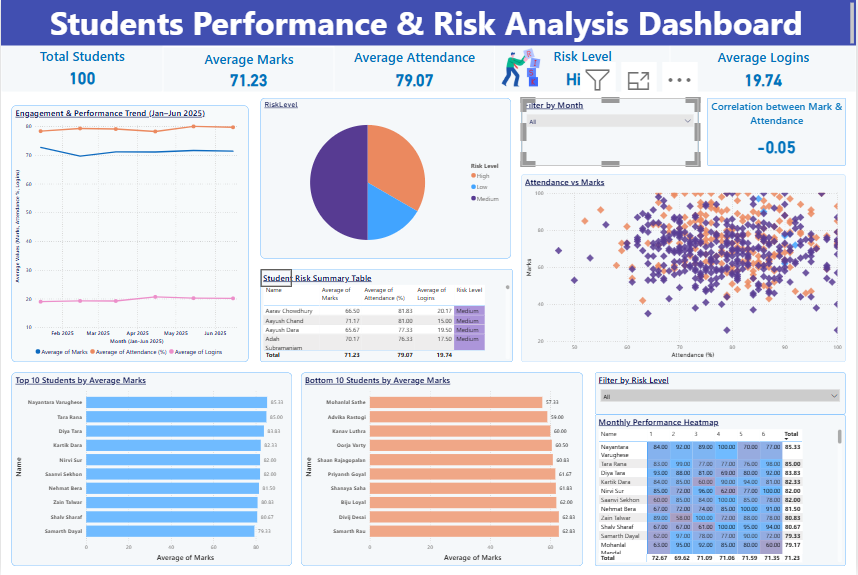

The dashboard page shown, as its layout file describes it:
{"tool":"powerbi","page":{"name":"Page 1","canvas":[1900,1280],"ordinal":0},"visuals":[{"type":"card","title":"Average Logins","fields":{"Values":["Avg(student_performance_dataset.Logins)"]},"box":[1486.7,103.3,413.3,103.3],"z":0},{"type":"lineChart","title":"Engagement & Performance Trend (Jan–Jun 2025)","fields":{"Category":["student_performance_dataset.Date"],"Y":["Avg(student_performance_dataset.Marks)","Avg(student_performance_dataset.Attendance (%))","Avg(student_performance_dataset.Logins)"]},"box":[23.3,236.7,526.7,570],"z":1000},{"type":"card","title":"Average Attendance","fields":{"Values":["Avg(student_performance_dataset.Attendance (%))"]},"box":[740,103.3,356.7,103.3],"z":2000},{"type":"tableEx","title":"Student Risk Summary Table","fields":{"Values":["student_performance_dataset.Name","Avg(student_performance_dataset.Marks)","Avg(student_performance_dataset.Attendance (%))","Avg(student_performance_dataset.Logins)","student_performance_dataset.Risk Level"]},"box":[576.7,600,560,206.7],"z":3000},{"type":"card","title":"Average Marks","fields":{"Values":["Avg(student_performance_dataset.Marks)"]},"box":[360,106.7,380,100],"z":4000},{"type":"actionButton","box":[0,0,100,40],"z":5000},{"type":"card","title":"Total Students","fields":{"Values":["Count(student_performance_dataset.Name)"]},"box":[0,100,360,106.7],"z":6000},{"type":"slicer","title":"Filter by Risk Level","fields":{"Values":["student_performance_dataset.Risk Level"]},"box":[1320,830,556.7,93.3],"z":7000},{"type":"pivotTable","title":"Monthly Performance Heatmap","fields":{"Rows":["student_performance_dataset.Name"],"Values":["Avg(student_performance_dataset.Marks)"],"Columns":["student_performance_dataset.Week"]},"box":[1320,923.3,556.7,336.7],"z":8000},{"type":"card","title":"Risk Level","fields":{"Values":["Min(student_performance_dataset.RiskLevel)"]},"box":[1096.7,100,390,106.7],"z":9000},{"type":"textbox","title":"Students Performance & Risk Analysis Dashboard","box":[0,0,1900,103.3],"z":10000},{"type":"pieChart","title":"RiskLevel","fields":{"Y":["Count(student_performance_dataset.RiskLevel)"],"Series":["student_performance_dataset.Risk Level"]},"box":[576.7,220,556.7,356.7],"z":11000},{"type":"clusteredBarChart","title":"Top 10 Students by Average Marks","fields":{"Category":["student_performance_dataset.Name"],"Y":["Avg(student_performance_dataset.Marks)"]},"box":[23.3,830,623.3,430],"z":12000},{"type":"clusteredBarChart","title":"Bottom 10 Students by Average Marks","fields":{"Category":["student_performance_dataset.Name"],"Y":["Avg(student_performance_dataset.Marks)"]},"box":[666.7,830,626.7,430],"z":13000},{"type":"image","box":[1096.7,100,116.7,103.3],"z":14000},{"type":"actionButton","box":[576.7,600,70,40],"z":15000},{"type":"scatterChart","title":"Attendance vs Marks","fields":{"X":["student_performance_dataset.Attendance (%)"],"Series":["student_performance_dataset.Risk Level"],"Y":["student_performance_dataset.Marks"]},"box":[1156.7,390,720,416.7],"z":16000,"group":"g1"},{"type":"card","title":"Correlation between Mark & Attendance","fields":{"Values":["student_performance_dataset.Correlation_Marks_Attendance"]},"box":[1570,220,306.7,150],"z":16001},{"type":"slicer","title":"Filter by Month","fields":{"Values":["student_performance_dataset.Month"]},"box":[1156.7,220,393.3,150],"z":16002},{"type":"group","id":"g1","title":"Group 1","box":[1156.7,390,720,416.7],"z":16004}]}

Visuals, with their boxes in screenshot pixels (x1, y1, x2, y2), scaled from the page's 1900x1280 canvas onto the 858x575 screenshot:
"Average Logins" card: locate(671, 46, 857, 93)
"Engagement & Performance Trend (Jan–Jun 2025)" lineChart: locate(11, 106, 248, 362)
"Average Attendance" card: locate(334, 46, 495, 93)
"Student Risk Summary Table" tableEx: locate(260, 270, 513, 362)
"Average Marks" card: locate(163, 48, 334, 93)
actionButton: locate(0, 0, 45, 18)
"Total Students" card: locate(0, 45, 163, 93)
"Filter by Risk Level" slicer: locate(596, 373, 847, 415)
"Monthly Performance Heatmap" pivotTable: locate(596, 415, 847, 566)
"Risk Level" card: locate(495, 45, 671, 93)
"Students Performance & Risk Analysis Dashboard" textbox: locate(0, 0, 857, 46)
"RiskLevel" pieChart: locate(260, 99, 512, 259)
"Top 10 Students by Average Marks" clusteredBarChart: locate(11, 373, 292, 566)
"Bottom 10 Students by Average Marks" clusteredBarChart: locate(301, 373, 584, 566)
image: locate(495, 45, 548, 91)
actionButton: locate(260, 270, 292, 288)
"Attendance vs Marks" scatterChart: locate(522, 175, 847, 362)
"Correlation between Mark & Attendance" card: locate(709, 99, 847, 166)
"Filter by Month" slicer: locate(522, 99, 700, 166)
"Group 1" group: locate(522, 175, 847, 362)
